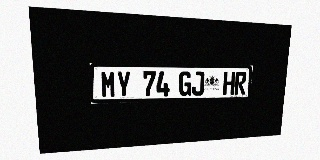4: (156, 71, 170, 97)
7: (142, 71, 156, 97)
G: (179, 71, 192, 96)
H: (223, 72, 235, 95)
J: (191, 71, 205, 96)
M: (100, 71, 116, 98)
R: (234, 72, 247, 95)
Y: (116, 71, 131, 97)
